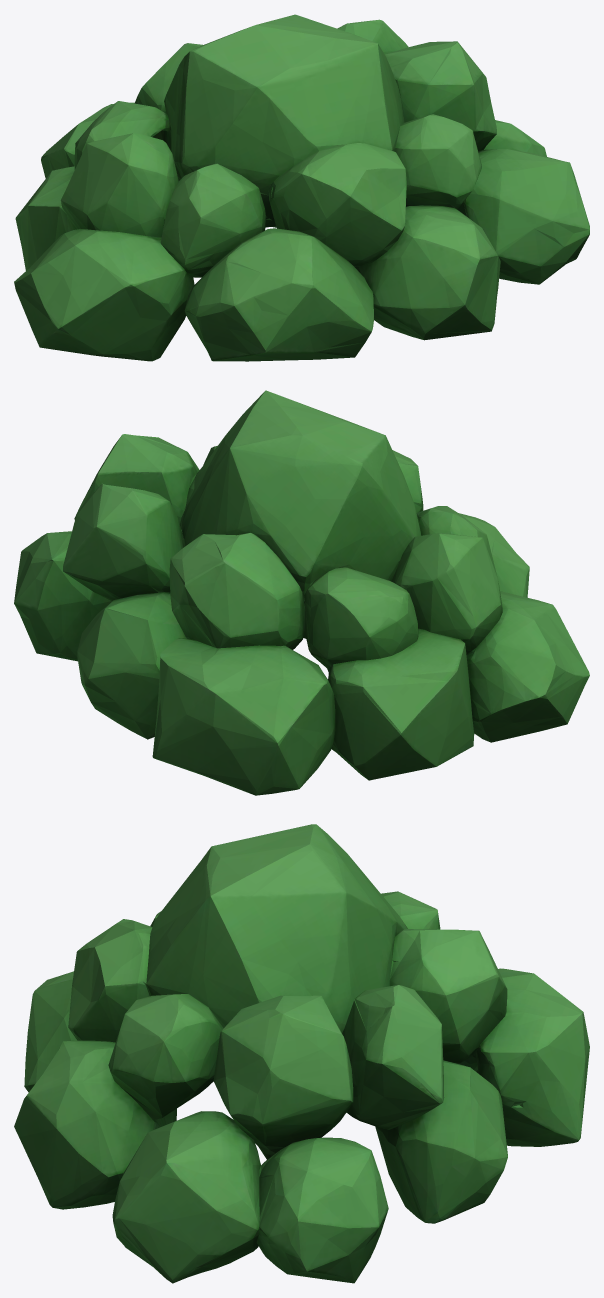
File: mossy_rocks.glb
3 renders of one model, top to bottom at view 1: azimuth 30°, elevation 25°; view 2: azimuth 150°, elevation 25°; view 3: azimuth 270°, elevation 25°, orthographic. The views are drawn at different scales.
Visible parts, largest first — view 1: world; view 2: world; view 3: world.
Boxes of the visible parts, bbox=[...] form: world: bbox=[14, 14, 589, 361]; world: bbox=[14, 390, 589, 795]; world: bbox=[14, 824, 589, 1283].
Size of the model in its own units: 0.9909 by 0.4838 by 0.8147.
1 material, 1 textured.
